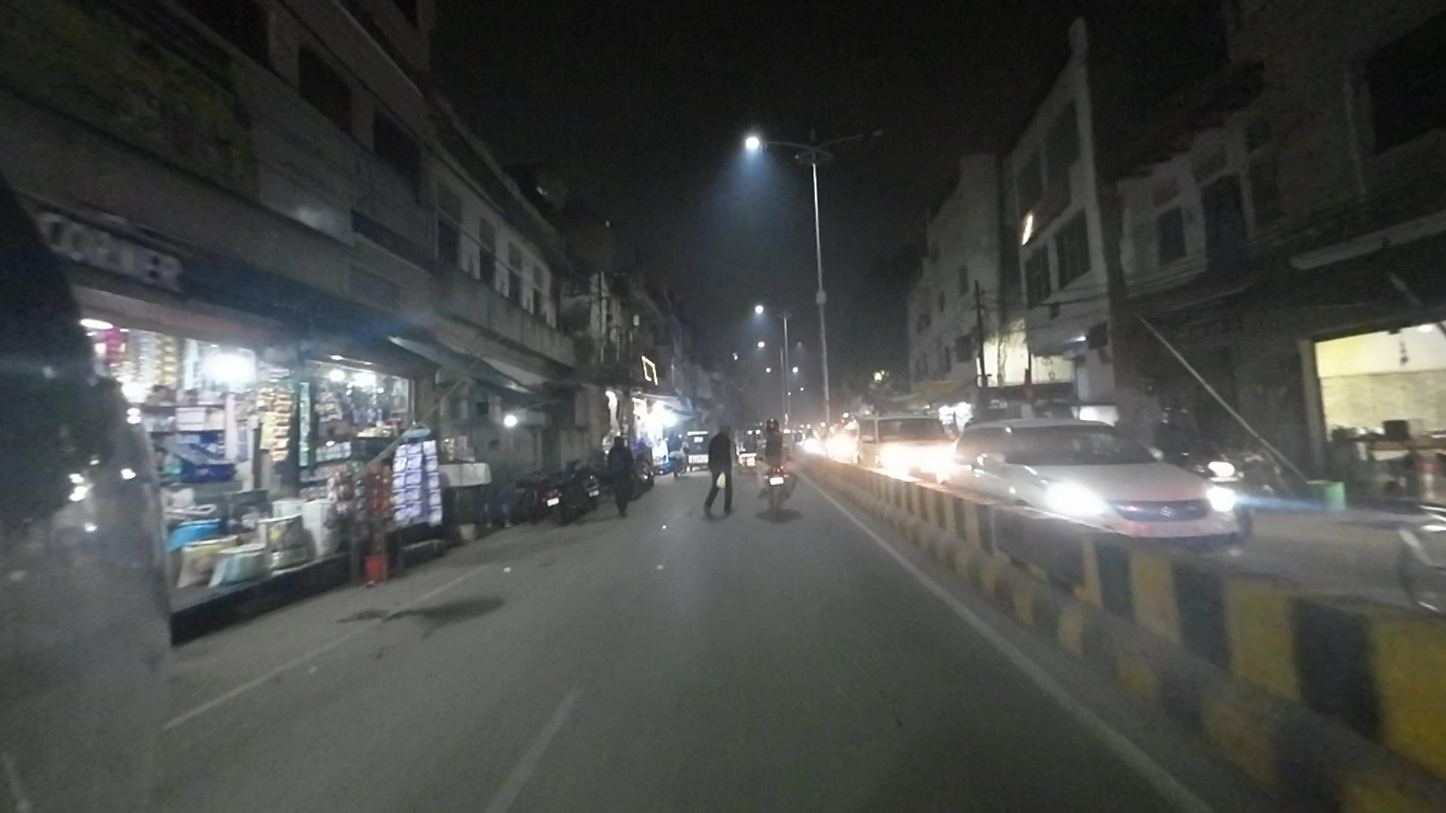streetlight: (828, 125, 886, 144)
